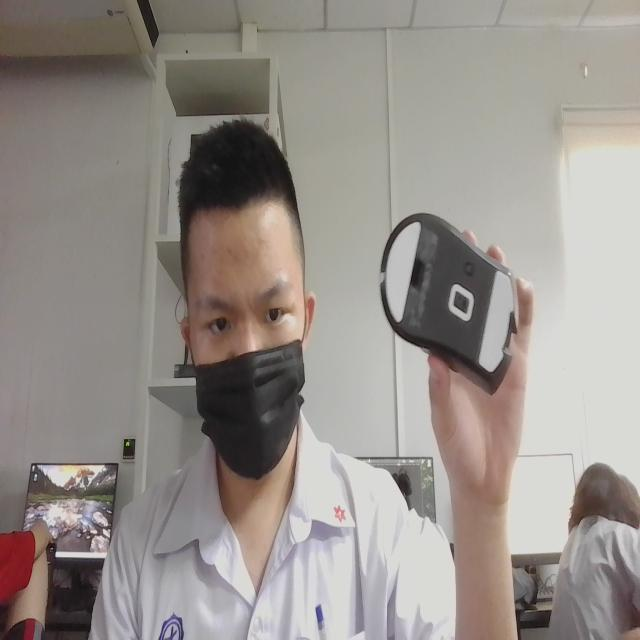mouse: (368, 197, 518, 389)
